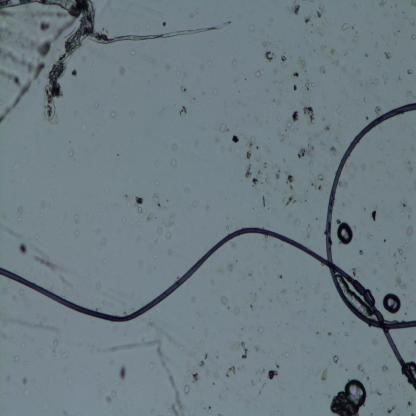Air bubble: (344, 378, 367, 408), (382, 293, 402, 314), (336, 222, 354, 245)
Background material: (0, 25, 52, 125), (150, 338, 184, 414), (180, 352, 210, 398), (33, 250, 71, 282), (106, 336, 168, 353), (13, 314, 58, 334), (330, 391, 358, 416), (274, 114, 295, 145), (398, 198, 415, 236), (228, 338, 250, 361), (290, 277, 308, 302), (305, 130, 320, 159), (245, 289, 263, 313), (314, 19, 334, 40), (98, 384, 120, 402), (392, 267, 407, 292), (344, 34, 362, 54), (253, 152, 268, 176), (269, 250, 285, 271), (320, 116, 336, 136), (243, 132, 260, 150), (325, 49, 344, 65), (277, 287, 292, 307), (134, 196, 147, 218), (271, 68, 285, 88), (384, 400, 402, 415), (304, 104, 316, 126), (37, 201, 51, 219), (320, 290, 330, 314), (310, 276, 321, 296), (302, 90, 316, 105), (401, 86, 416, 100), (166, 209, 176, 228), (391, 246, 406, 258), (310, 180, 324, 192), (152, 195, 162, 211), (16, 208, 26, 224), (271, 96, 283, 109), (58, 404, 71, 416), (225, 365, 236, 379), (286, 175, 295, 192), (320, 366, 329, 383), (297, 57, 307, 72), (254, 366, 266, 378), (316, 63, 327, 76), (368, 265, 379, 278), (265, 50, 276, 63), (291, 214, 301, 228), (316, 4, 326, 18), (178, 104, 188, 118), (264, 177, 273, 192), (192, 135, 201, 150), (219, 121, 230, 133), (268, 369, 279, 381), (18, 242, 28, 255), (292, 110, 300, 126), (292, 3, 301, 17), (77, 121, 88, 132), (370, 386, 381, 397), (350, 264, 360, 276), (206, 401, 214, 416), (369, 336, 379, 348), (108, 108, 118, 120), (341, 20, 351, 32), (286, 195, 296, 207), (226, 258, 234, 272), (97, 235, 105, 249), (119, 366, 127, 380), (405, 160, 413, 174), (260, 195, 268, 209), (356, 362, 366, 373), (334, 104, 345, 114), (377, 0, 388, 10), (217, 264, 227, 275), (19, 375, 29, 386), (70, 227, 80, 238), (231, 134, 240, 146), (70, 67, 79, 79), (121, 191, 133, 200), (311, 324, 320, 336), (298, 148, 307, 160), (165, 229, 173, 242), (306, 223, 312, 240), (180, 86, 190, 96), (220, 296, 230, 306), (66, 148, 75, 159), (329, 146, 338, 157), (304, 14, 313, 25), (370, 211, 378, 223), (52, 337, 60, 349), (182, 68, 189, 81), (210, 275, 216, 290), (319, 43, 328, 53), (369, 74, 379, 83), (262, 39, 273, 47), (211, 85, 219, 96), (304, 83, 315, 91), (146, 209, 154, 220), (245, 150, 253, 161), (245, 166, 253, 177), (252, 178, 260, 189), (170, 157, 178, 168), (406, 67, 414, 78), (61, 350, 68, 362), (281, 52, 288, 64), (256, 115, 263, 127), (356, 247, 365, 256), (129, 48, 138, 57), (332, 354, 340, 364), (16, 285, 24, 295), (189, 94, 197, 104), (255, 69, 265, 77), (88, 56, 94, 69), (384, 73, 390, 86), (375, 106, 382, 117), (120, 66, 127, 77), (247, 24, 256, 32), (341, 329, 350, 337), (365, 233, 374, 241), (147, 363, 156, 371), (291, 71, 300, 79), (260, 282, 269, 290), (375, 250, 381, 262), (317, 174, 326, 182), (405, 400, 412, 410), (289, 344, 296, 354), (387, 50, 394, 60), (305, 346, 315, 353), (234, 308, 241, 318), (235, 392, 242, 402), (254, 343, 260, 354), (122, 218, 130, 226), (247, 270, 254, 279), (151, 236, 158, 245), (334, 214, 341, 223), (382, 364, 388, 374), (274, 172, 280, 182), (293, 83, 298, 95), (408, 18, 415, 26), (204, 204, 211, 212), (74, 216, 82, 223), (206, 58, 212, 67), (364, 373, 370, 382), (410, 0, 416, 9), (92, 100, 98, 109), (388, 382, 394, 391), (259, 325, 264, 335), (284, 349, 289, 359), (215, 411, 225, 416), (165, 62, 171, 70), (232, 60, 238, 68), (101, 257, 107, 265), (20, 341, 26, 349), (267, 295, 273, 303), (361, 204, 367, 212), (363, 164, 369, 172), (12, 354, 18, 362), (350, 322, 356, 330), (262, 244, 268, 251), (381, 237, 387, 244), (278, 273, 284, 280), (282, 154, 287, 162), (198, 340, 206, 345), (152, 252, 157, 260), (189, 12, 195, 18), (158, 229, 164, 235), (218, 393, 223, 400), (211, 380, 216, 387), (392, 31, 396, 39), (276, 362, 280, 370), (339, 180, 343, 188), (162, 21, 167, 27), (332, 339, 337, 345), (369, 411, 375, 416), (364, 52, 369, 58), (275, 332, 280, 338), (411, 35, 416, 41), (304, 197, 309, 203), (327, 331, 332, 336), (264, 88, 269, 93), (343, 200, 346, 208), (315, 216, 319, 222), (51, 352, 57, 356), (404, 310, 407, 316), (217, 354, 219, 361), (414, 340, 416, 345), (411, 413, 414, 416), (344, 369, 348, 371)
Cellulose filter fibre: (0, 0, 97, 129), (86, 19, 235, 45)
Microfibre: (0, 226, 416, 392), (323, 98, 416, 330)
